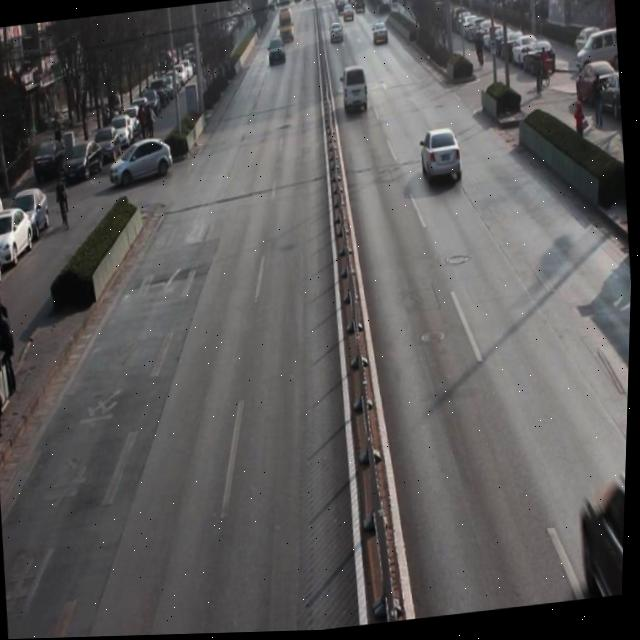car: (417, 126, 466, 190), (266, 37, 286, 69), (371, 21, 390, 49), (328, 20, 346, 48)
truck: (339, 65, 370, 129)
